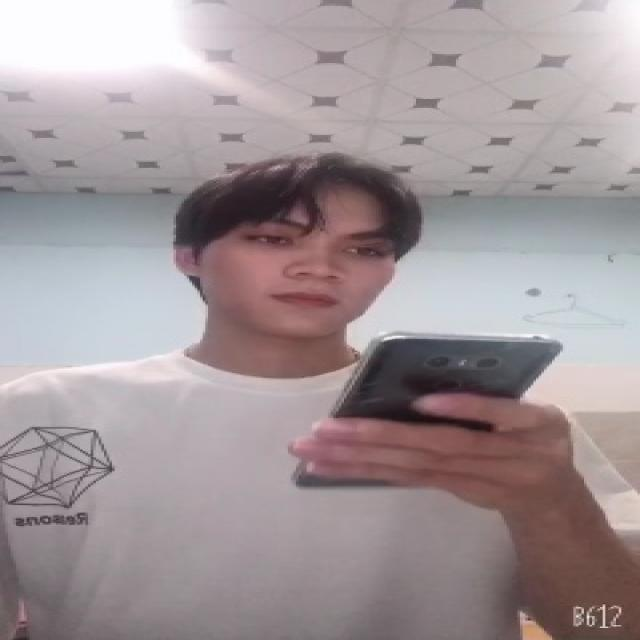Phone: (289, 328, 566, 491)
